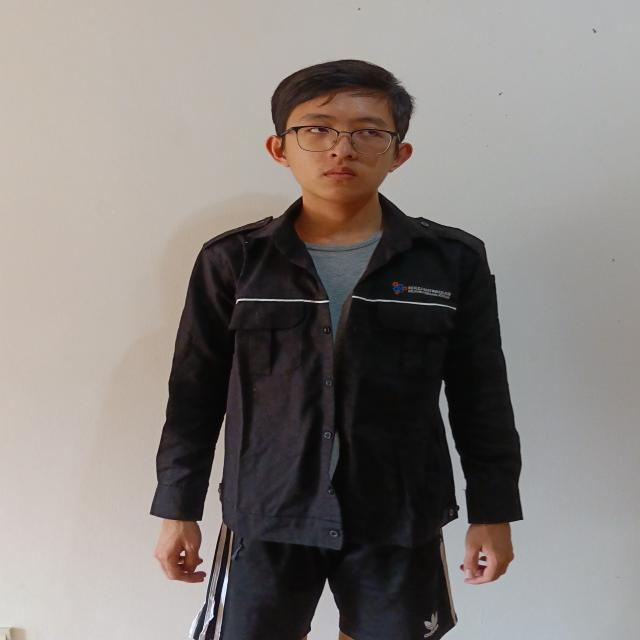person_with_labcoat: (151, 60, 522, 640)
